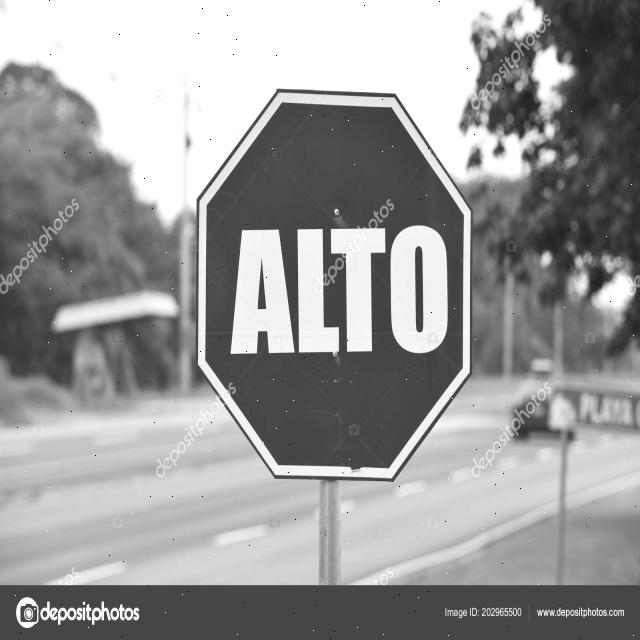Stop-sign: (183, 71, 487, 488)
